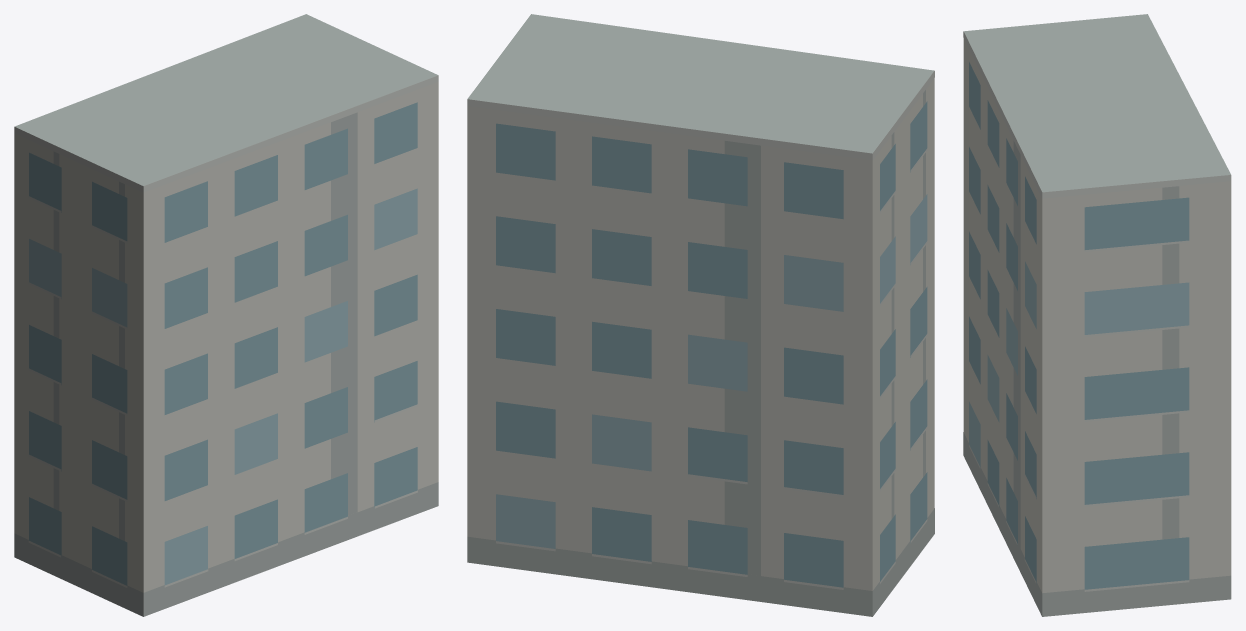
File: survey-upis-32804219.glb
3 renders of one model, left to right at view 1: azimuth 30°, elevation 25°; view 2: azimuth 150°, elevation 25°; view 3: azimuth 270°, elevation 25°, orthographic. The views are drawn at different scales.
Visible parts, largest first — view 1: survey-upis-32804219.tmp; view 2: survey-upis-32804219.tmp; view 3: survey-upis-32804219.tmp.
Boxes of the visible parts, x1,y1,x2,y2 form: survey-upis-32804219.tmp: [14, 14, 438, 616]; survey-upis-32804219.tmp: [467, 14, 934, 616]; survey-upis-32804219.tmp: [963, 14, 1231, 616].
Size of the model in its own units: 14.43 by 16 by 9.16.
